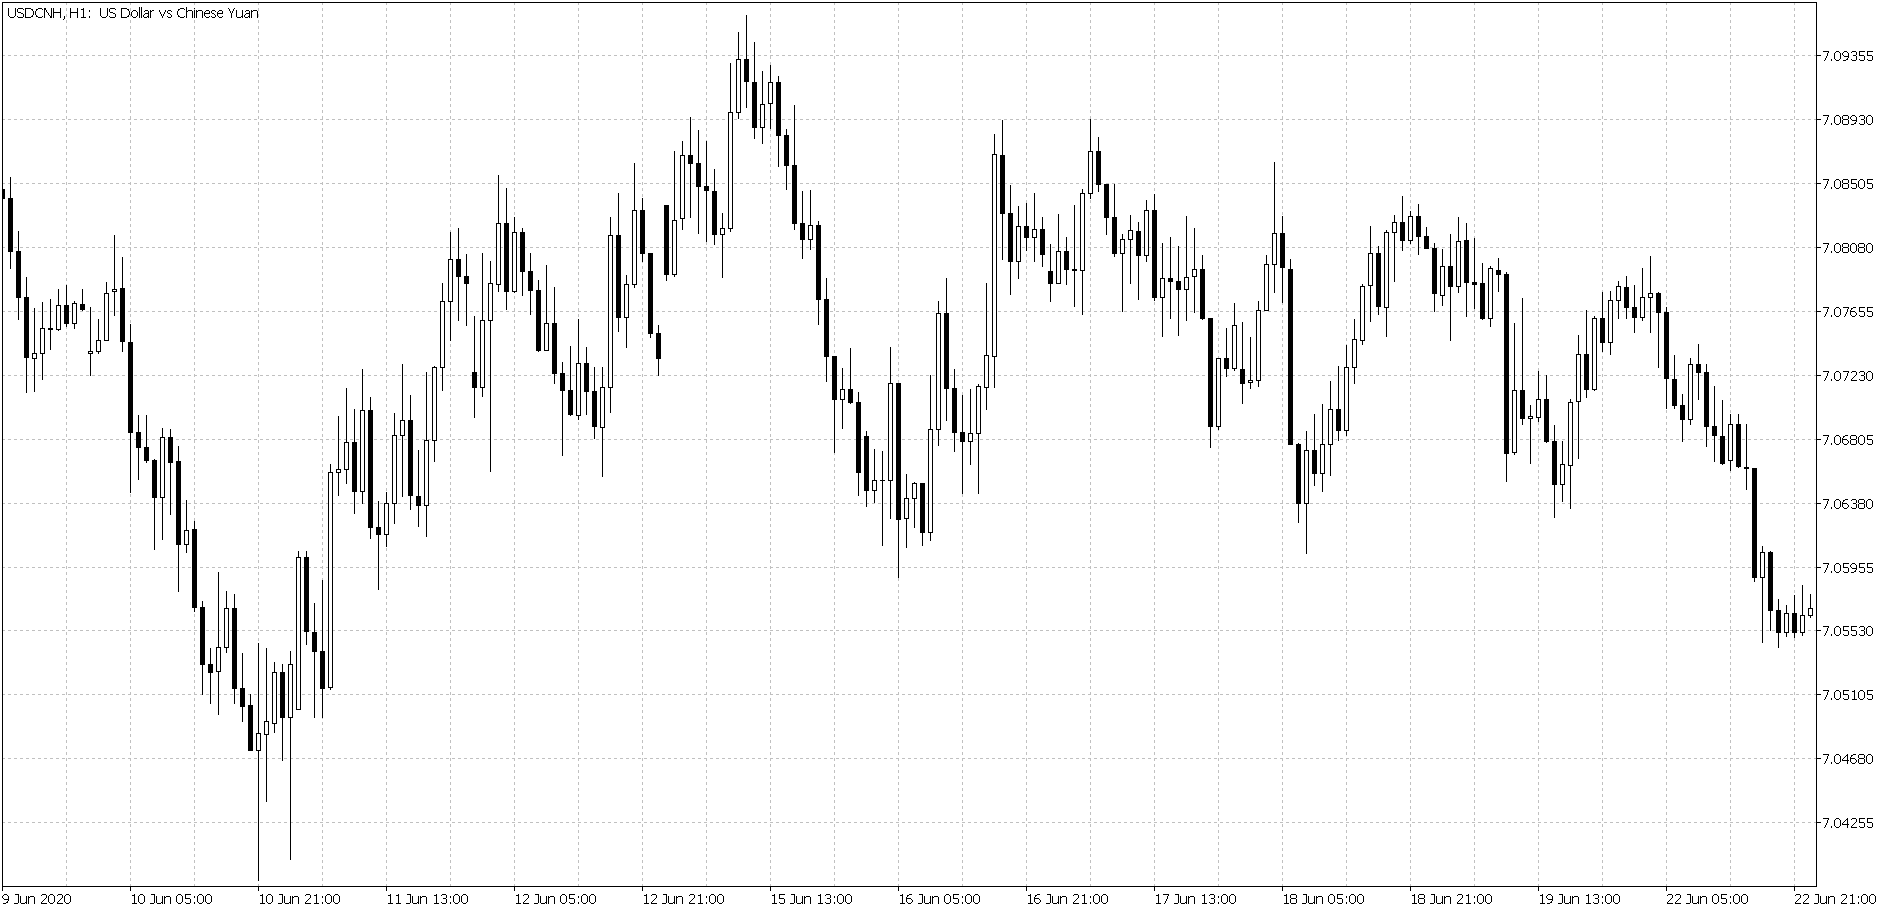tripleTops: (1228, 169, 1784, 500)
